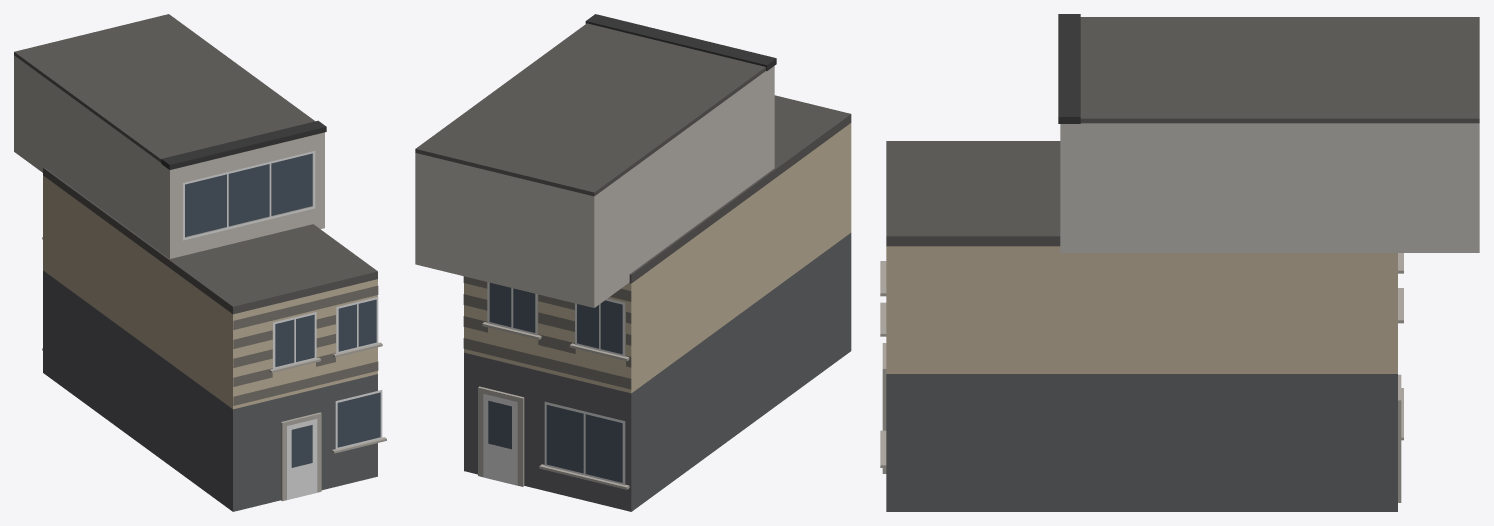
File: nd-tw-flat-top__striped__2__flat__long__solid.glb
3 renders of one model, left to right at view 1: azimuth 30°, elevation 25°; view 2: azimuth 150°, elevation 25°; view 3: azimuth 270°, elevation 25°, orthographic. The views are drawn at different scales.
Parts seen in each view (by area): view 1: nd-tw-flat-top__striped__2__flat__long__solid; view 2: nd-tw-flat-top__striped__2__flat__long__solid; view 3: nd-tw-flat-top__striped__2__flat__long__solid.
Boxes of the visible parts, x1,y1,x2,y2 form: nd-tw-flat-top__striped__2__flat__long__solid: (14, 14, 386, 511); nd-tw-flat-top__striped__2__flat__long__solid: (415, 14, 851, 511); nd-tw-flat-top__striped__2__flat__long__solid: (880, 14, 1479, 511).
Bounding box in the file's own units: 4.78 × 8.7 × 11.72.
